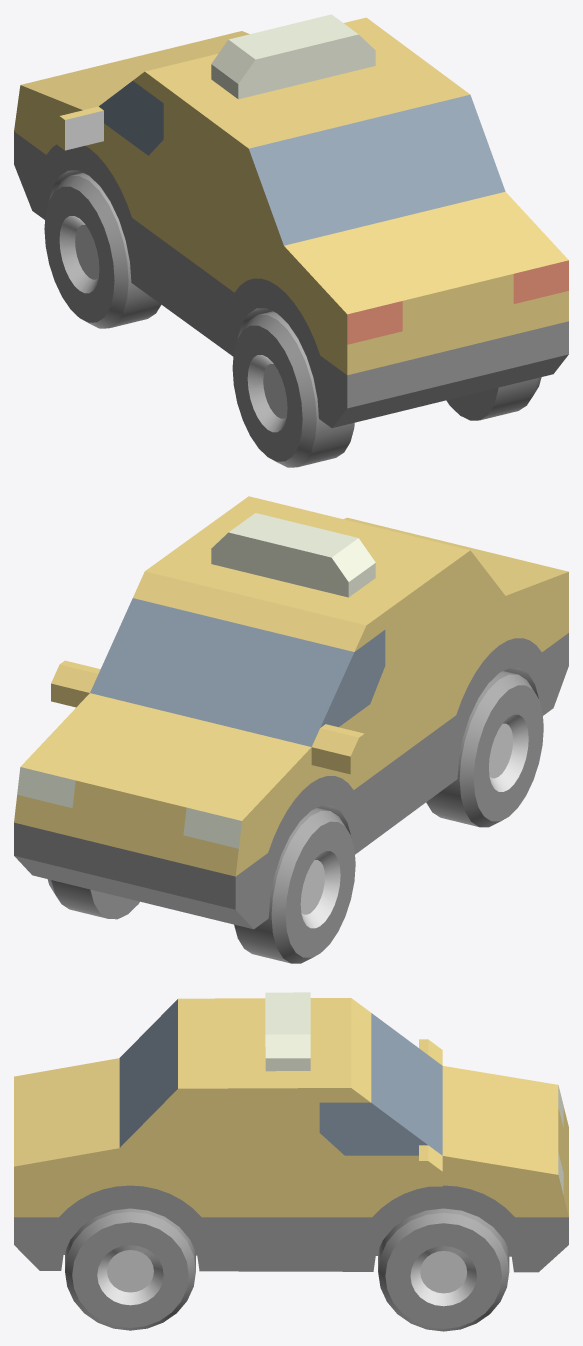
File: carTaxi.gltf
The picture shows the model from 3 angles, top to bottom: view 1: azimuth 30°, elevation 25°; view 2: azimuth 150°, elevation 25°; view 3: azimuth 270°, elevation 25°; orthographic projection. The views are drawn at different scales.
Visible parts, largest first — view 1: body 10, wheelBackLeft 10, wheelFrontLeft 10, wheelBackRight 10; view 2: body 10, wheelFrontLeft 10, wheelBackLeft 10, wheelFrontRight 10; view 3: body 10, wheelFrontRight 10, wheelBackRight 10.
Part boxes in pixels (x1,y1,x2,y2): body 10: (14, 14, 568, 427); wheelBackLeft 10: (232, 311, 354, 467); wheelFrontLeft 10: (44, 173, 161, 328); wheelBackRight 10: (446, 377, 541, 420); body 10: (14, 496, 568, 929); wheelFrontLeft 10: (234, 808, 355, 963); wheelBackLeft 10: (426, 671, 543, 827); wheelFrontRight 10: (47, 879, 139, 919); body 10: (14, 992, 568, 1272); wheelFrontRight 10: (378, 1208, 509, 1331); wheelBackRight 10: (65, 1208, 195, 1330).
Size of the model in its own units: 0.615 by 0.6461 by 1.18.
